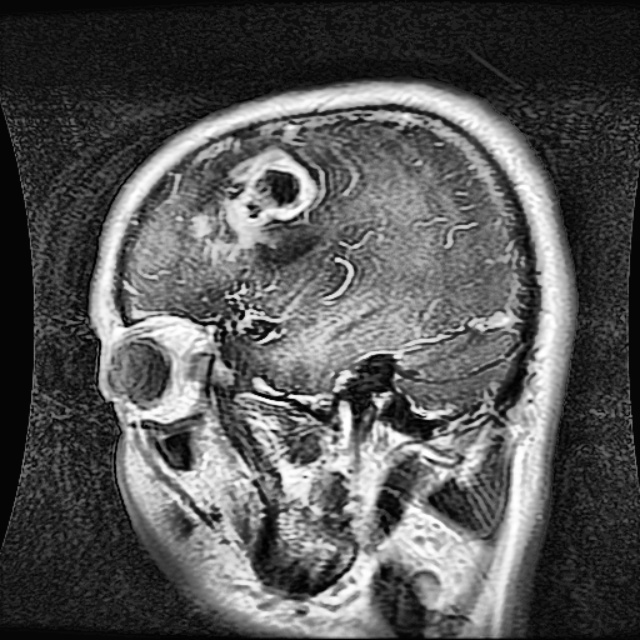Meningioma: (224, 145, 315, 247)
